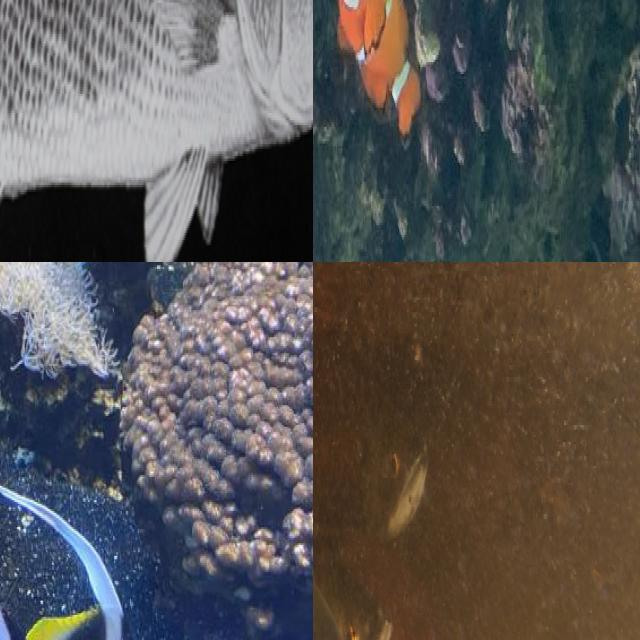fish: (0, 0, 313, 262), (332, 0, 421, 153)
